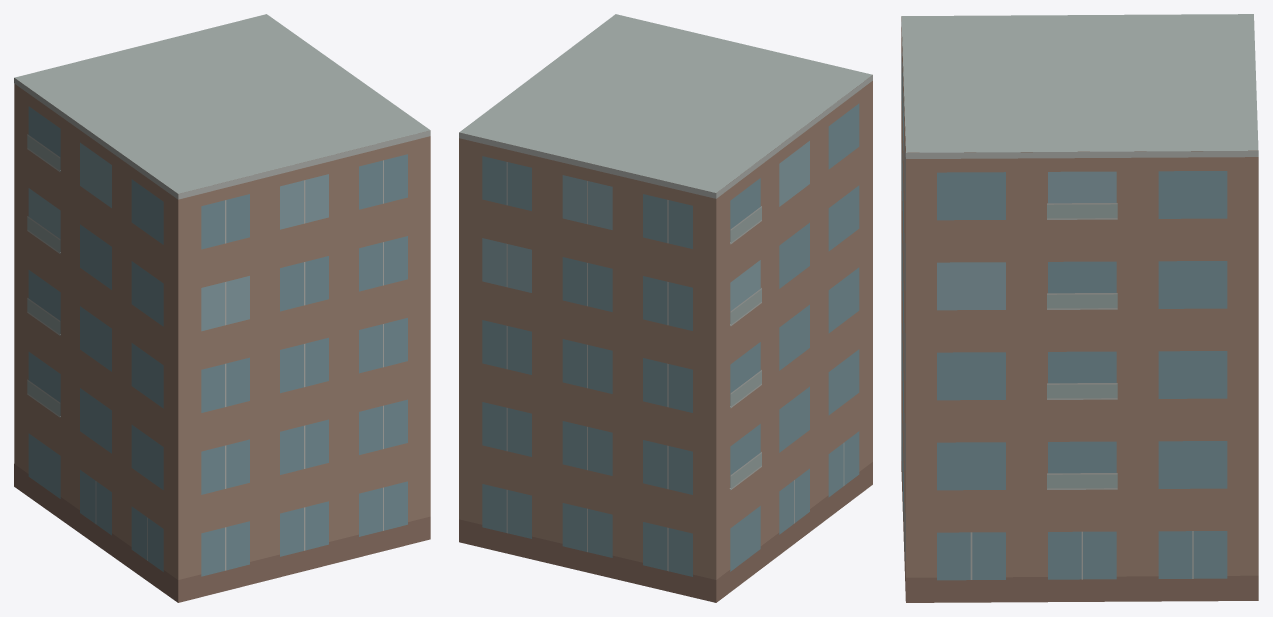
File: survey-upis-32622461.glb
3 views of the same model, side by side, from view 1: azimuth 30°, elevation 25°; view 2: azimuth 150°, elevation 25°; view 3: azimuth 270°, elevation 25° (orthographic). The views are drawn at different scales.
Visible parts, largest first — view 1: survey-upis-32622461.tmp; view 2: survey-upis-32622461.tmp; view 3: survey-upis-32622461.tmp.
Part boxes in pixels (<box>): survey-upis-32622461.tmp: <box>14,14,430,602</box>; survey-upis-32622461.tmp: <box>459,14,872,602</box>; survey-upis-32622461.tmp: <box>901,14,1258,602</box>.
Bounding box in the file's own units: 11.47 × 17.3 × 12.45.
